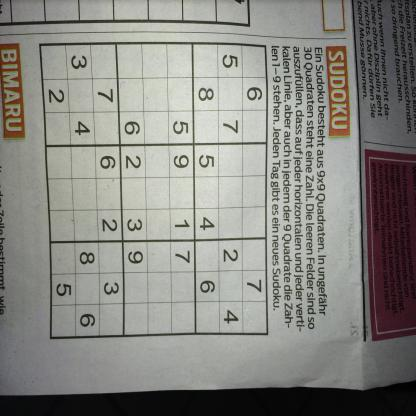sudoku: (35, 39, 271, 348)
